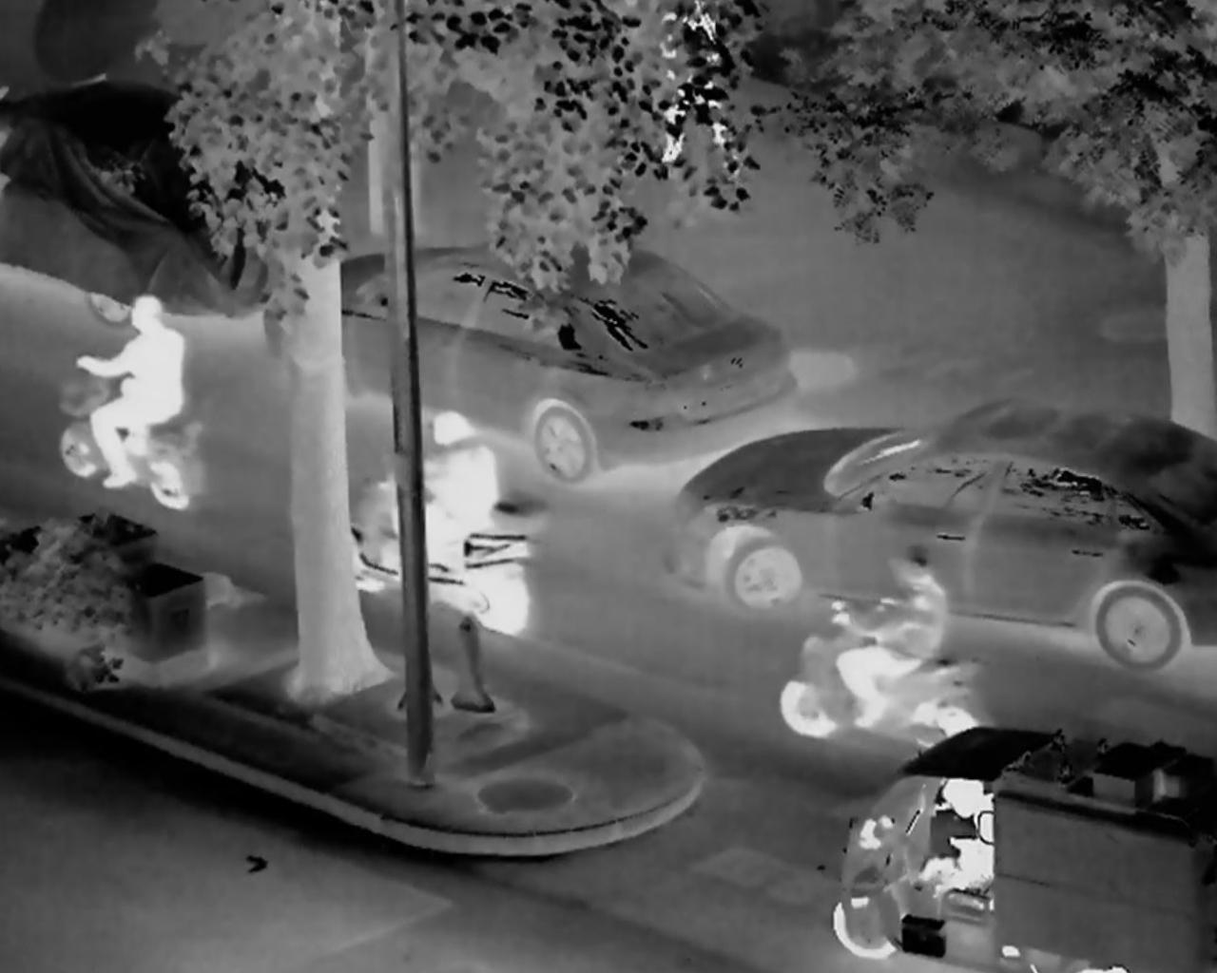person: (69, 288, 210, 522), (376, 398, 513, 599), (826, 545, 940, 747), (638, 6, 735, 199), (940, 754, 1036, 942)
